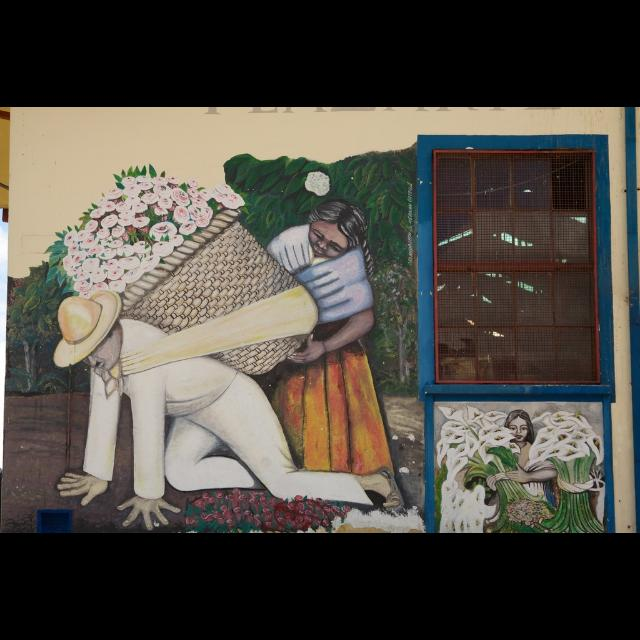Flower: (62, 175, 244, 301), (435, 405, 515, 533), (185, 487, 348, 533), (526, 409, 604, 467), (302, 169, 332, 197), (152, 242, 174, 256)
